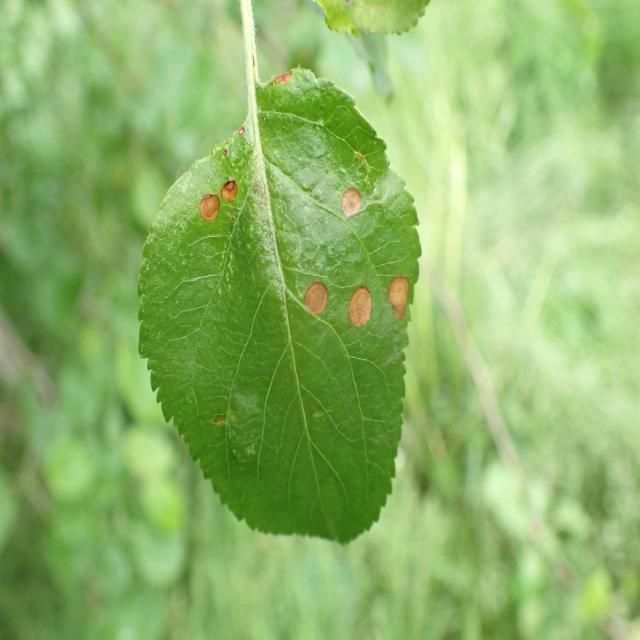Black Rot: (290, 274, 330, 350), (377, 261, 419, 328), (178, 175, 222, 236), (342, 263, 376, 333), (324, 182, 386, 220), (207, 171, 254, 218), (265, 46, 294, 102)
